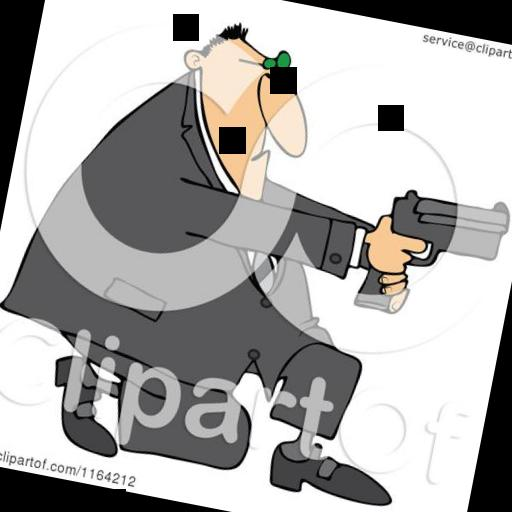Handgun: (352, 174, 512, 331)
